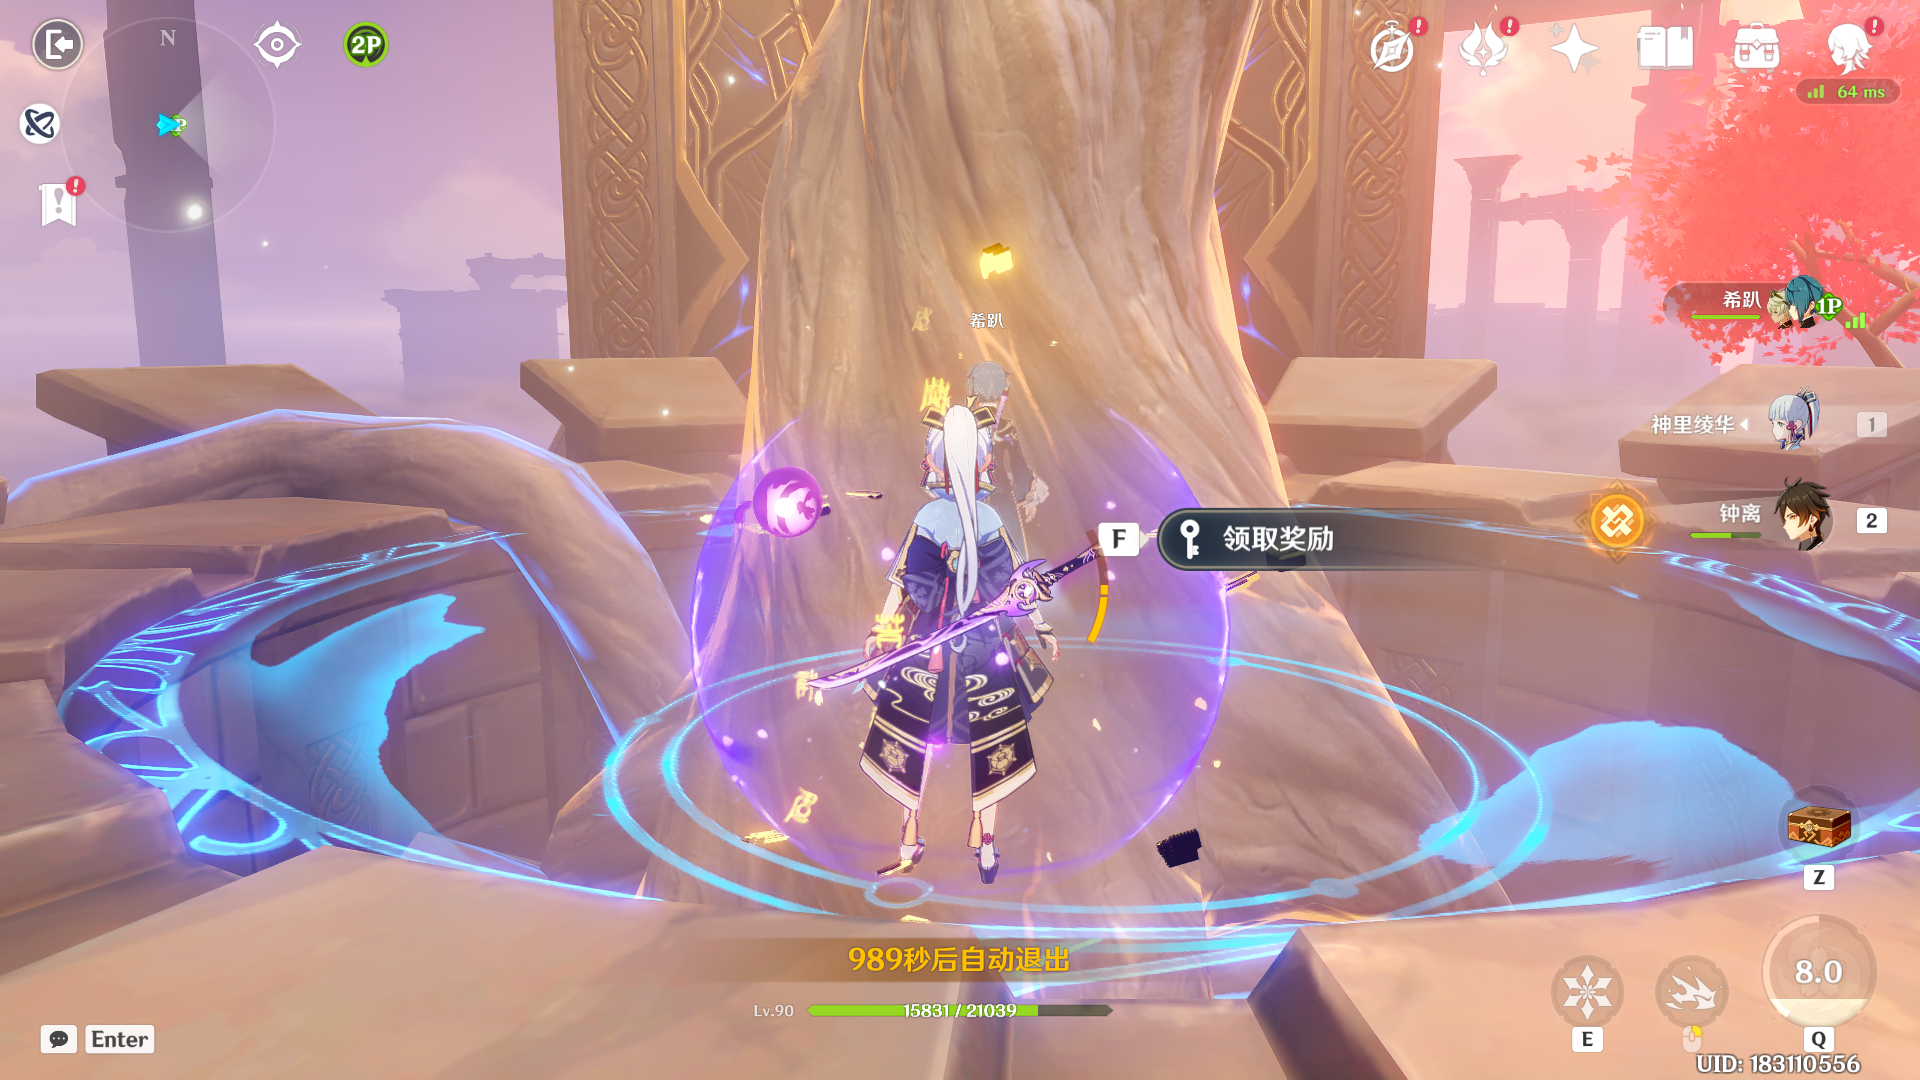character: (816, 359, 1062, 899)
